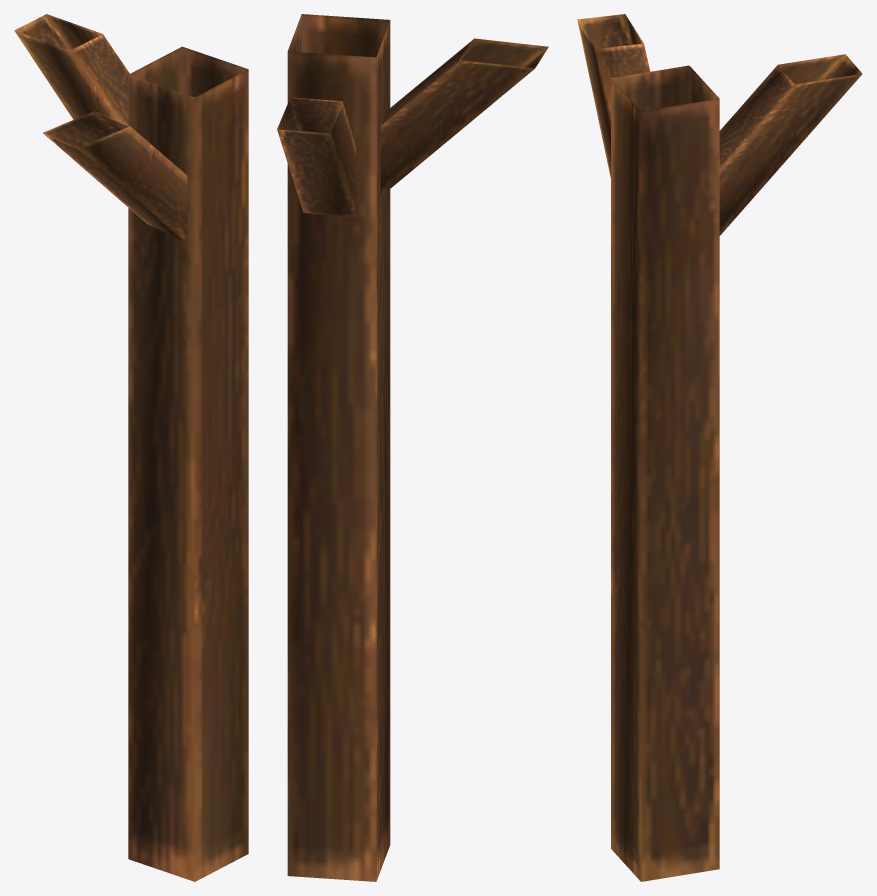
Rendered from SWORDLIGHT20_JAILPLATSUPPORT62.fbx.
The picture shows the model from 3 angles, left to right: view 1: azimuth 30°, elevation 25°; view 2: azimuth 150°, elevation 25°; view 3: azimuth 270°, elevation 25°; orthographic projection. The views are drawn at different scales.
Parts seen in each view (by area): view 1: SWORDLIGHT20_JAILPLATSUPPORT62; view 2: SWORDLIGHT20_JAILPLATSUPPORT62; view 3: SWORDLIGHT20_JAILPLATSUPPORT62.
Boxes of the visible parts, x1,y1,x2,y2 form: SWORDLIGHT20_JAILPLATSUPPORT62: [14, 14, 248, 881]; SWORDLIGHT20_JAILPLATSUPPORT62: [277, 14, 548, 881]; SWORDLIGHT20_JAILPLATSUPPORT62: [577, 14, 862, 881].
Bounding box in the file's own units: 11567 × 40476 × 13583.
1 material, 1 textured.
